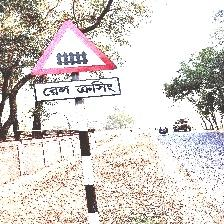Rail-crossing: (31, 20, 120, 111)
